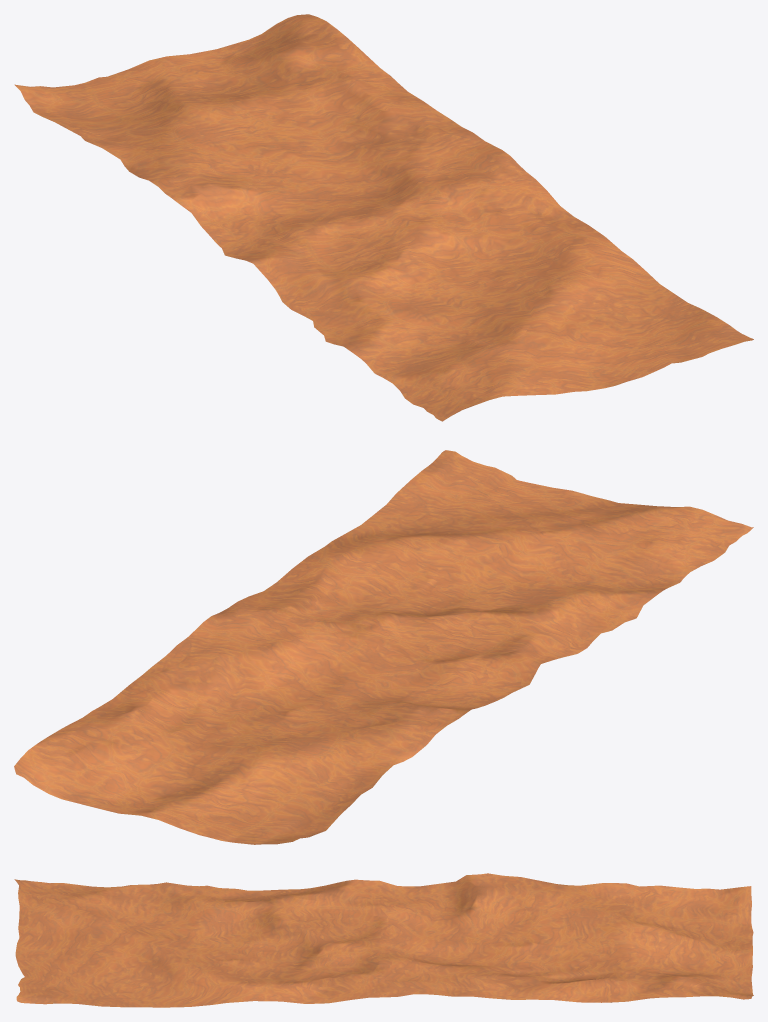
File: Floor.fbx
The picture shows the model from 3 angles, top to bottom: view 1: azimuth 30°, elevation 25°; view 2: azimuth 150°, elevation 25°; view 3: azimuth 270°, elevation 25°; orthographic projection. The views are drawn at different scales.
Visible parts, largest first — view 1: pasted__Plane; view 2: pasted__Plane; view 3: pasted__Plane.
Part boxes in pixels (box(x1,y1,x2,y2)): pasted__Plane: box(14, 14, 753, 421); pasted__Plane: box(14, 450, 753, 844); pasted__Plane: box(14, 873, 753, 1007).
Bounding box in the file's own units: 19068 × 1561 × 47352.
